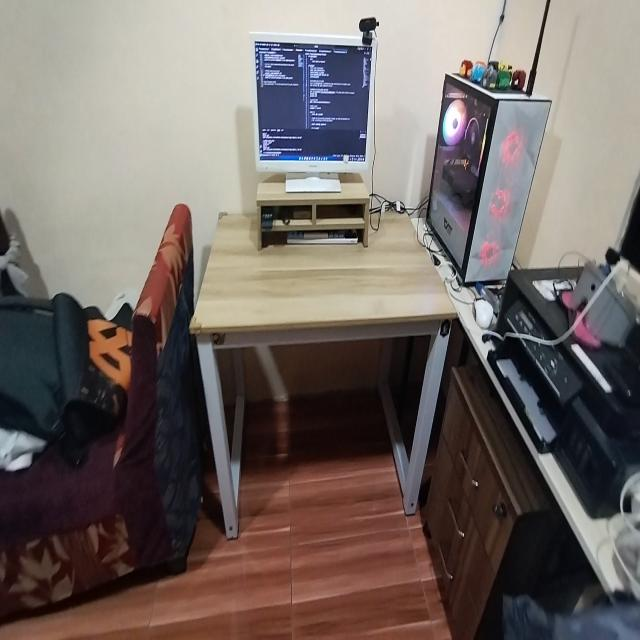table: (186, 206, 456, 540)
